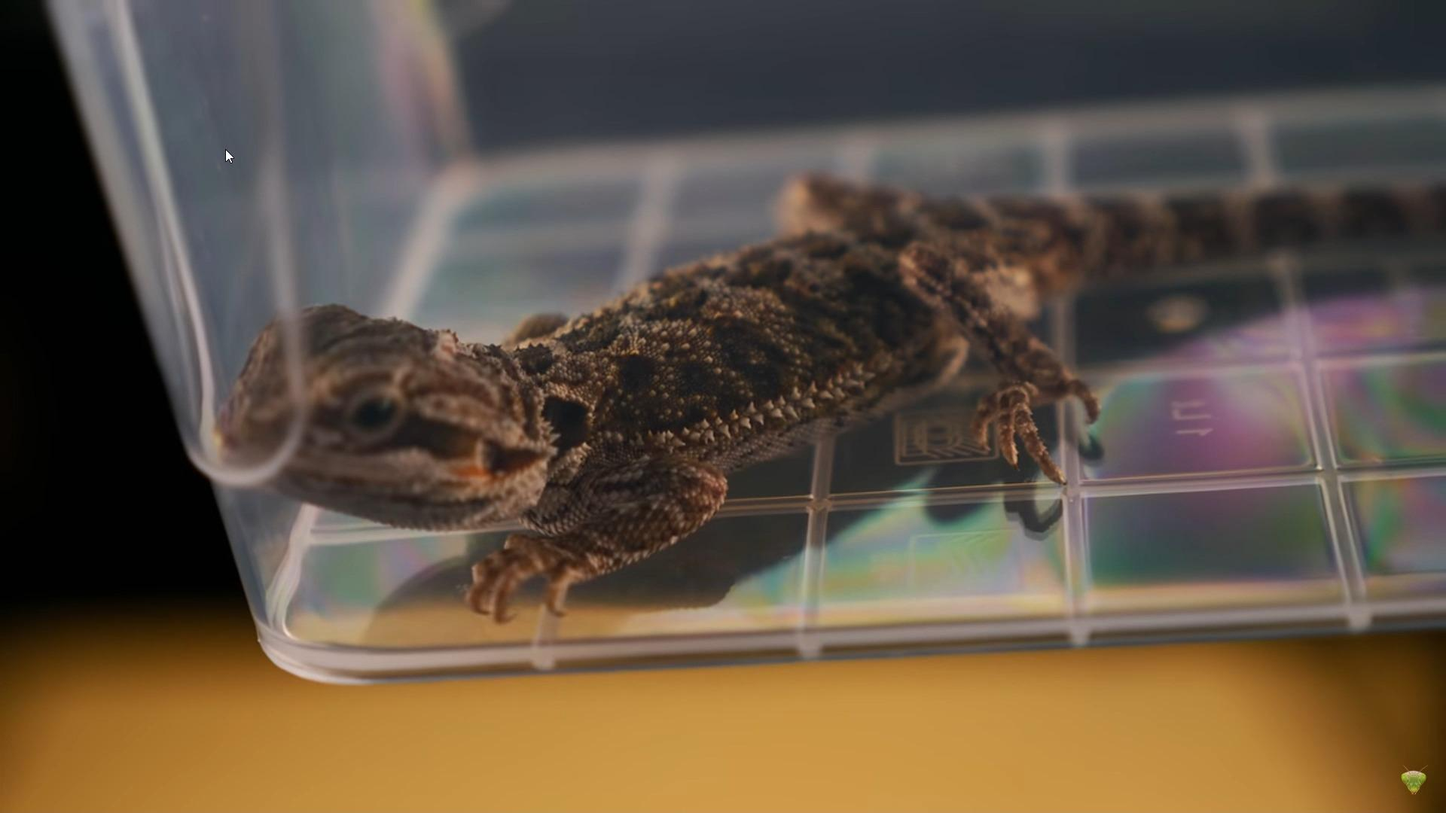lizard: (167, 162, 1293, 631)
